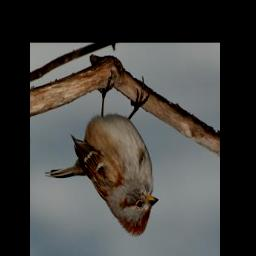Sparrow: (44, 68, 160, 238)
